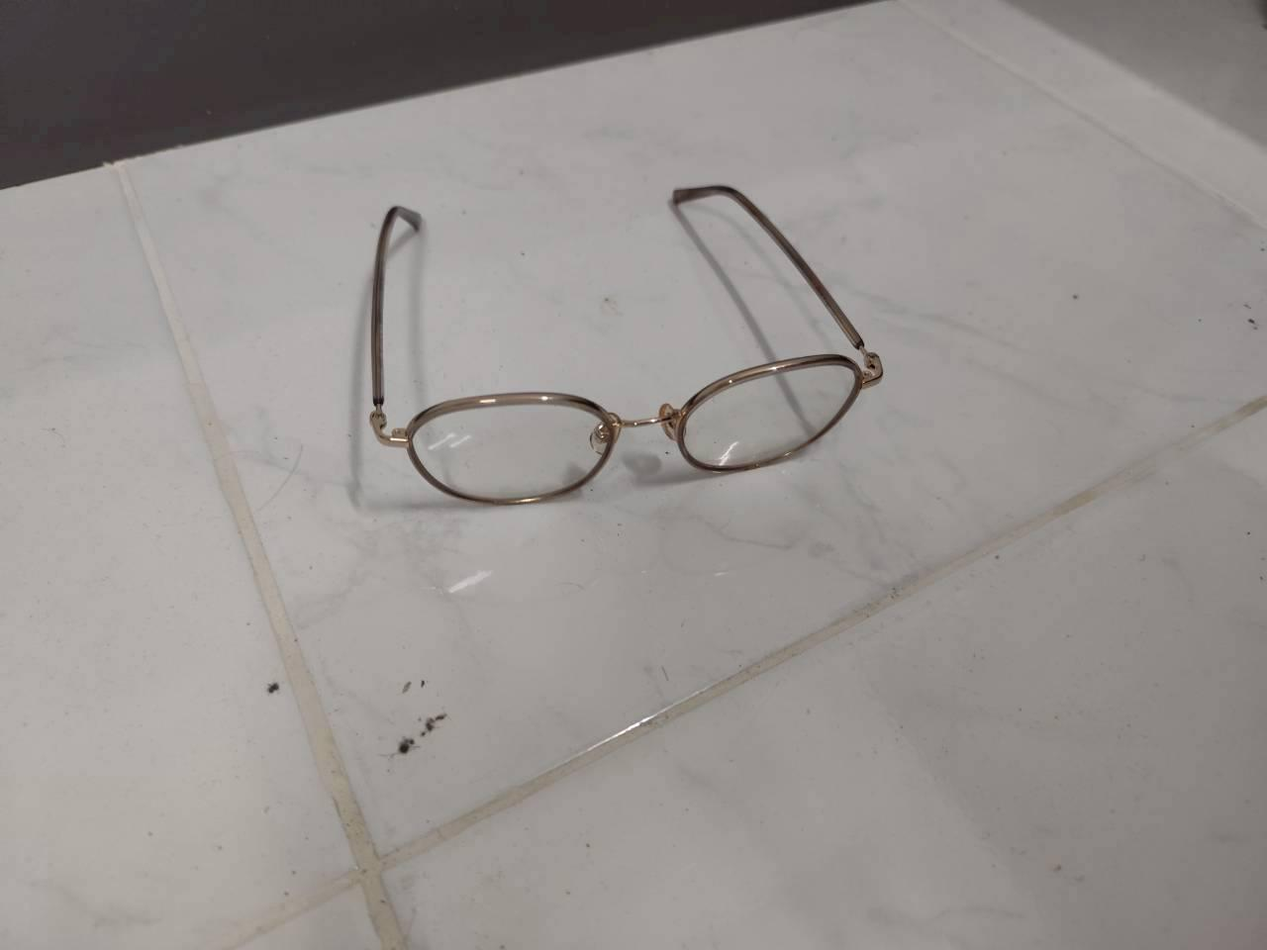glasses: (360, 177, 900, 515)
